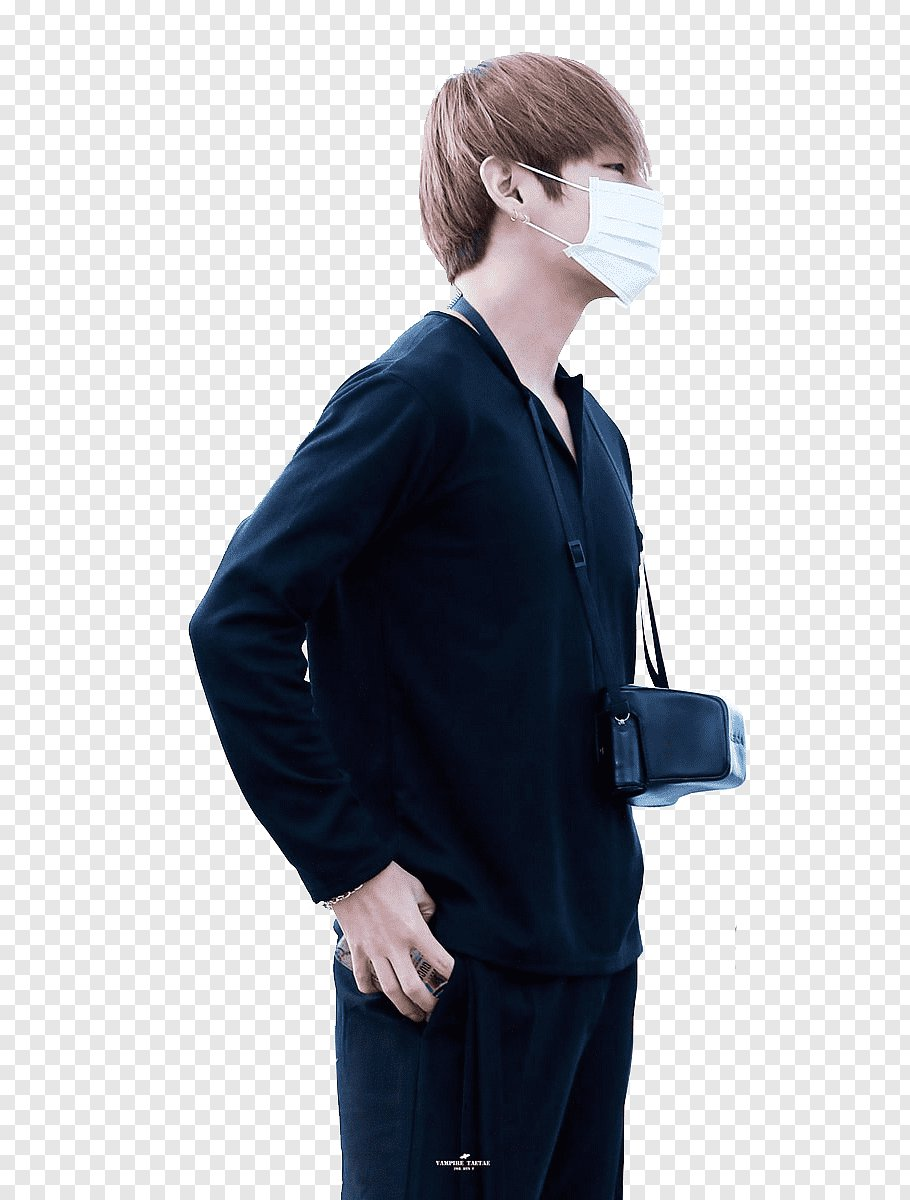mask: (402, 57, 720, 318)
